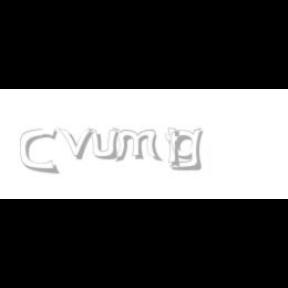C: (20, 128, 57, 174)
g: (170, 128, 206, 171)
m: (111, 128, 163, 162)
t: (165, 128, 187, 168)
u: (88, 128, 122, 160)
v: (58, 128, 98, 160)
